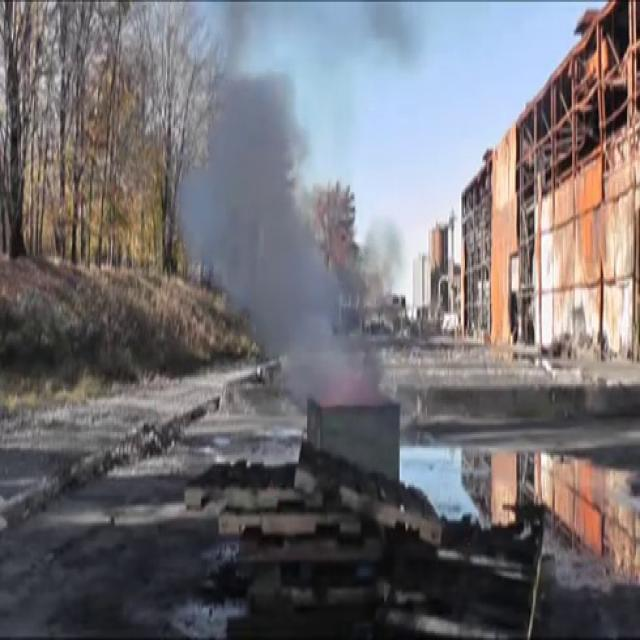Smoke: (166, 3, 388, 384)
